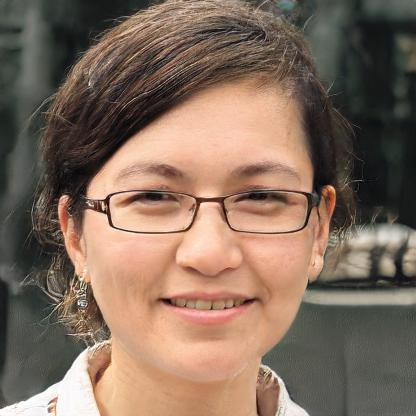glasses: (96, 183, 318, 243)
